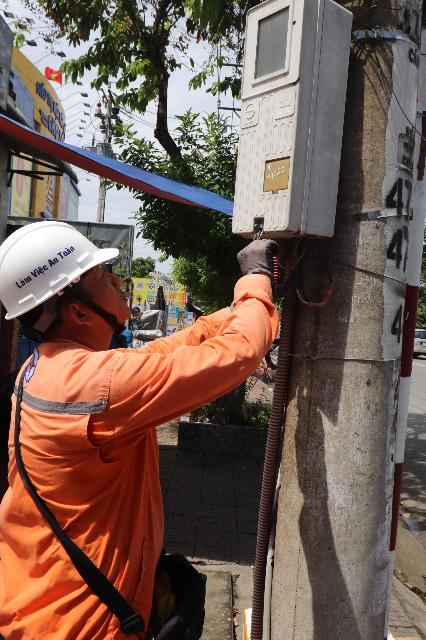gloves: (221, 228, 299, 285)
helmet: (0, 212, 124, 319)
